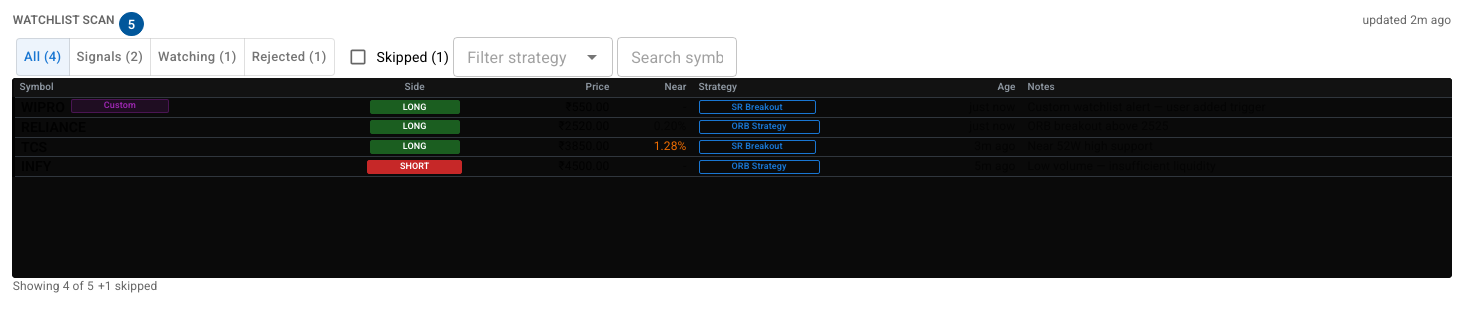
Test: WatchlistScan2 › footer › hides +X skipped when skipped items are shown
The image size is (1464, 312).
Expected: the text "+1 skipped" is shown, [98,278,158,296]
Click the checkbox labelled "Skipped (1)" at x=398, y=57, box [348,47,449,67]
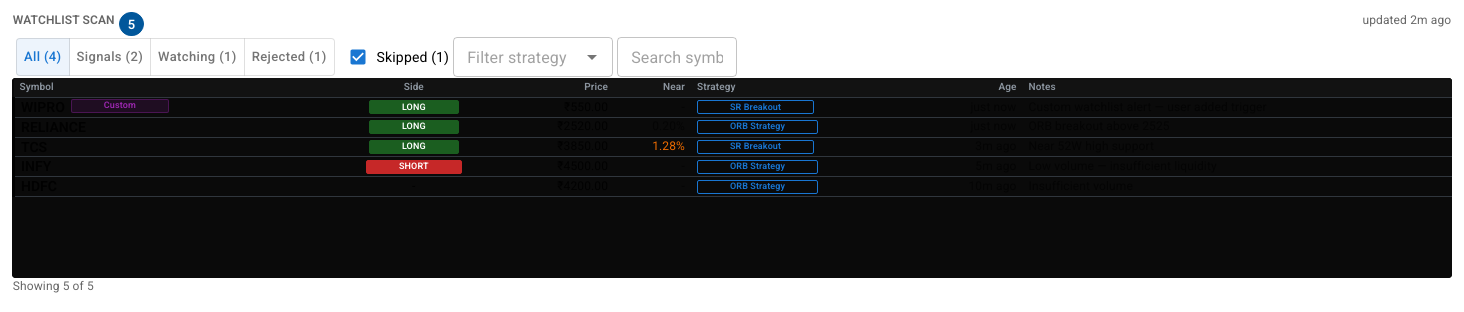
Result: the text "Showing 5 of 5" is shown at [13,278,94,296]
Result: the text "+1 skipped" is gone
